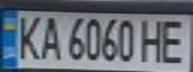0: (81, 15, 103, 62), (118, 16, 139, 63)
6: (63, 14, 87, 61), (100, 16, 121, 63)
A: (36, 12, 63, 61)
E: (157, 16, 190, 64)
H: (136, 16, 169, 64)
K: (12, 12, 45, 61)
